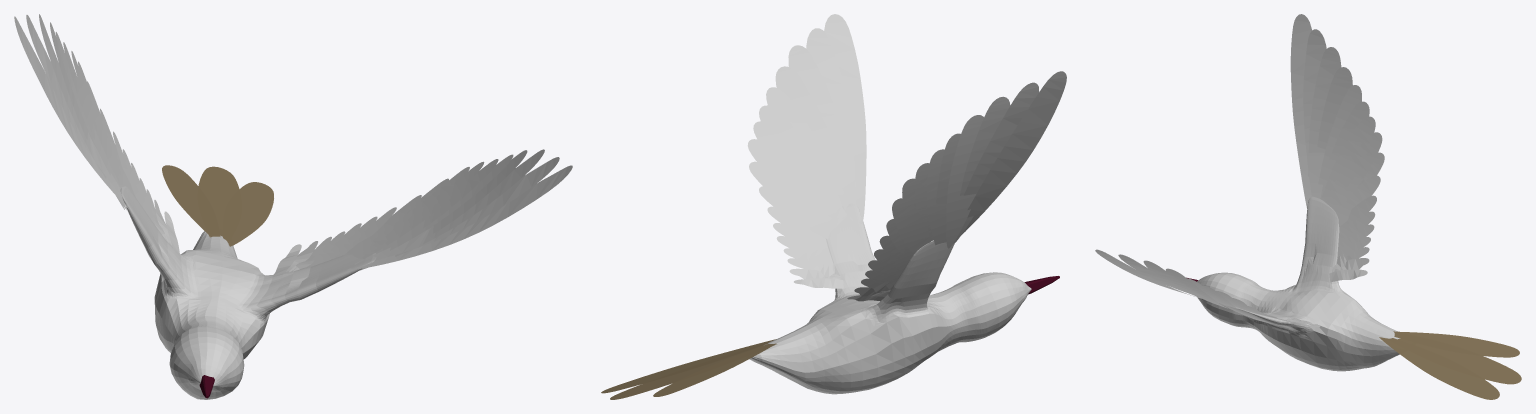
The model's file is bird.obj.
The picture shows the model from 3 angles, left to right: view 1: azimuth 30°, elevation 25°; view 2: azimuth 150°, elevation 25°; view 3: azimuth 270°, elevation 25°; orthographic projection. The views are drawn at different scales.
Visible parts, largest first — view 1: BirdBody25, Feather181, Feather179, Feather176; view 2: BirdBody25, Feather179, Feather181, Feather176; view 3: BirdBody25, Feather181, Feather179, Feather176.
Boxes of the visible parts, bbox=[...] form: BirdBody25: bbox=[14, 14, 572, 399]; Feather181: bbox=[223, 182, 273, 246]; Feather179: bbox=[162, 165, 220, 236]; Feather176: bbox=[198, 166, 239, 237]; BirdBody25: bbox=[747, 14, 1066, 394]; Feather179: bbox=[653, 343, 776, 396]; Feather181: bbox=[601, 339, 776, 393]; Feather176: bbox=[610, 344, 776, 399]; BirdBody25: bbox=[1095, 14, 1400, 371]; Feather181: bbox=[1379, 337, 1499, 399]; Feather179: bbox=[1393, 331, 1519, 357]; Feather176: bbox=[1394, 331, 1521, 384].
Size of the model in its own units: 47.87 by 43.72 by 60.55.
